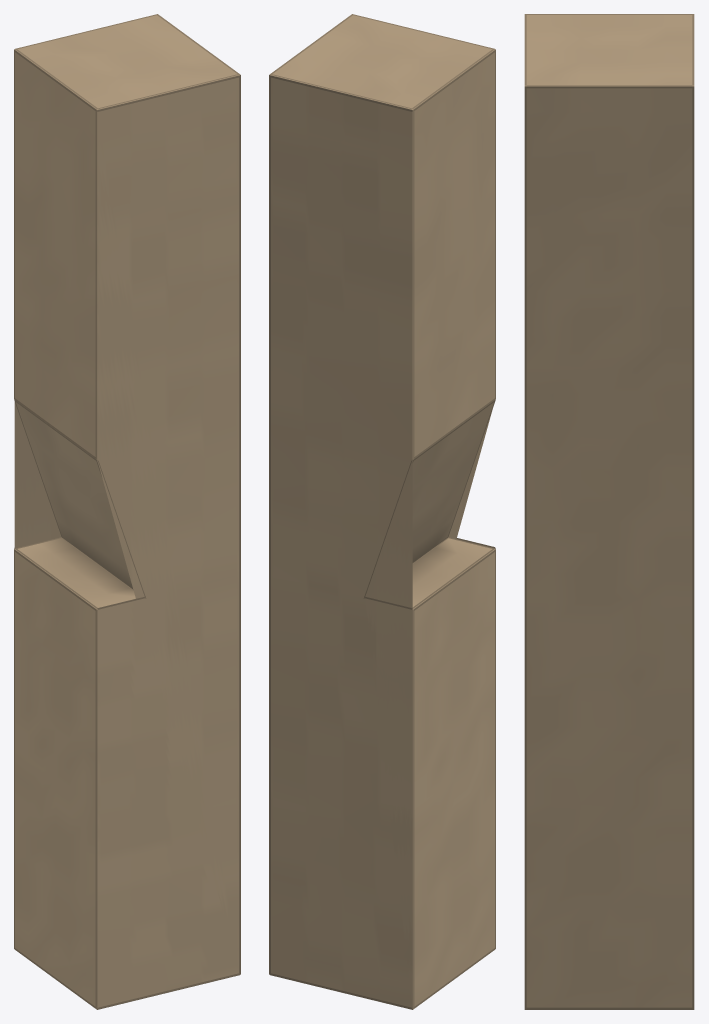
3 views of the same model, side by side, from view 1: azimuth 30°, elevation 25°; view 2: azimuth 150°, elevation 25°; view 3: azimuth 270°, elevation 25° (orthographic). The views are drawn at different scales.
Parts seen in each view (by area): view 1: part-a; view 2: part-a; view 3: part-a.
Boxes of the visible parts, x1,y1,x2,y2 form: part-a: (14, 14, 240, 1009); part-a: (269, 14, 495, 1009); part-a: (524, 14, 694, 1009).
Size of the model in its own units: 0.1208 by 0.7208 by 0.1208.
